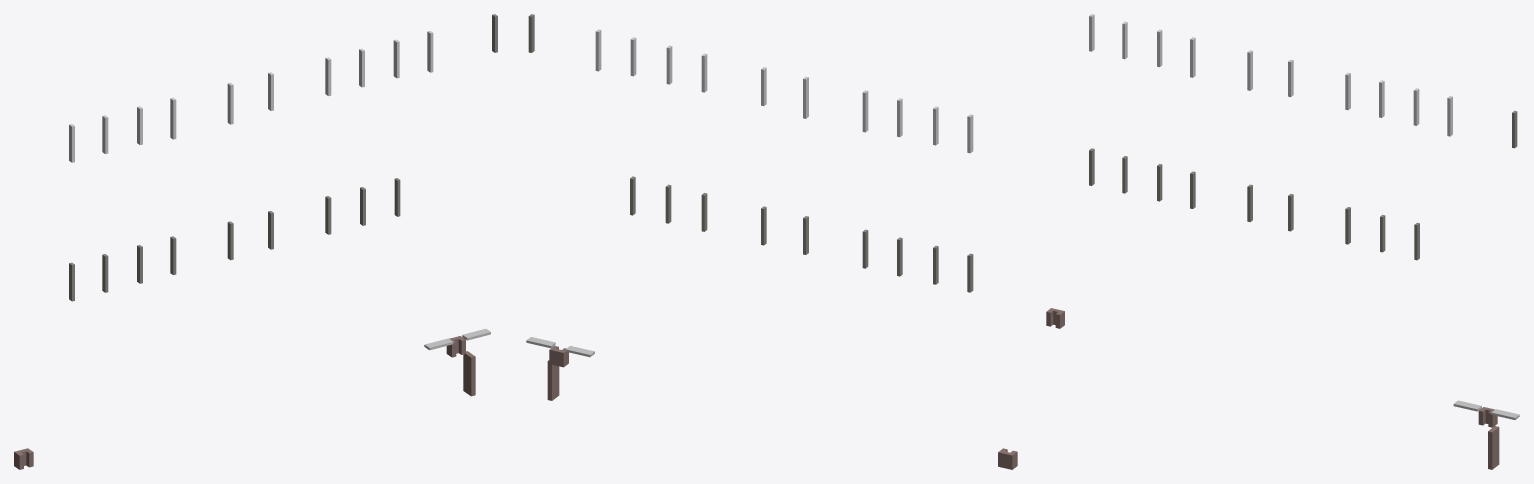
3 renders of one model, left to right at view 1: azimuth 30°, elevation 25°; view 2: azimuth 150°, elevation 25°; view 3: azimuth 330°, elevation 25°, orthographic. The views are drawn at different scales.
Size of the model in its own units: 10.9 by 8.08 by 0.66.
